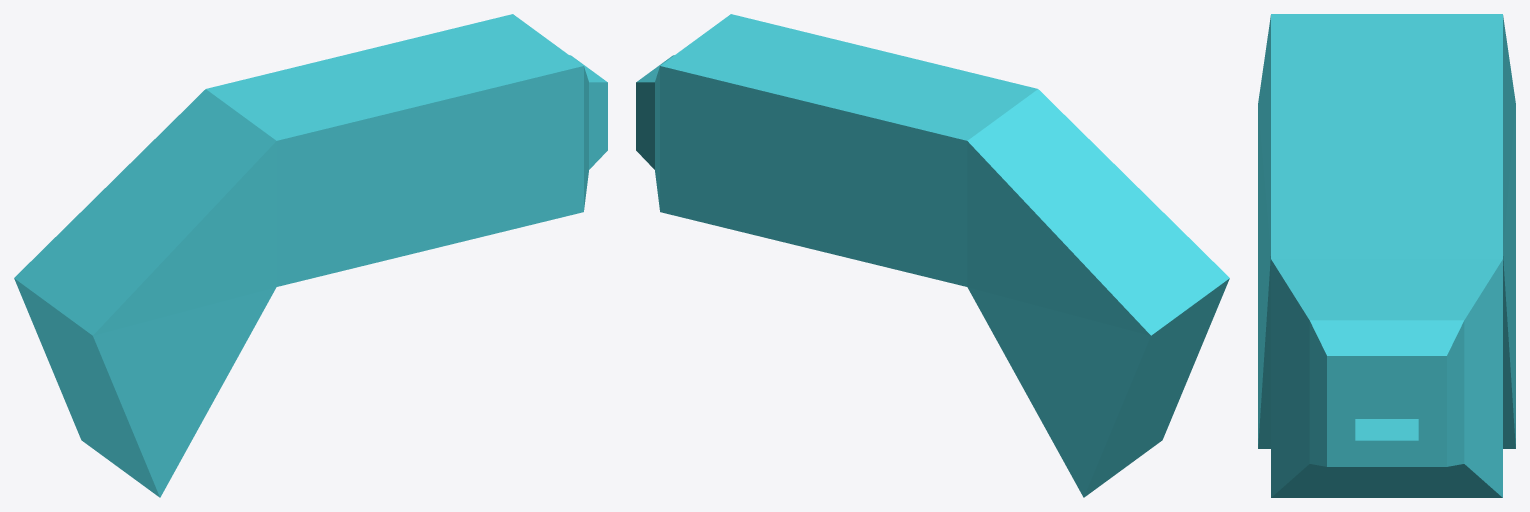
File: gun.fbx
3 views of the same model, side by side, from view 1: azimuth 30°, elevation 25°; view 2: azimuth 150°, elevation 25°; view 3: azimuth 270°, elevation 25° (orthographic). The views are drawn at different scales.
Visible parts, largest first — view 1: Cube; view 2: Cube; view 3: Cube.
Boxes of the visible parts, x1,y1,x2,y2 form: Cube: [14, 14, 607, 497]; Cube: [636, 14, 1229, 497]; Cube: [1258, 14, 1515, 497].
Size of the model in its own units: 314 by 182 by 80.
